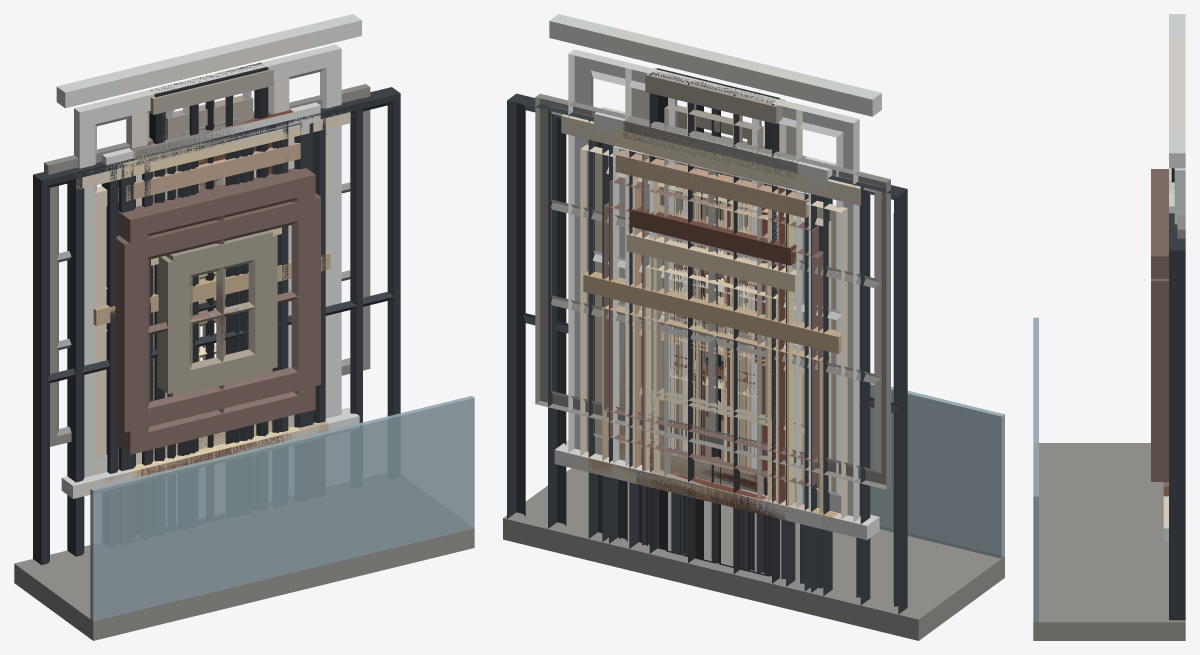
The model's file is facade-kits.glb.
3 views of the same model, side by side, from view 1: azimuth 30°, elevation 25°; view 2: azimuth 150°, elevation 25°; view 3: azimuth 270°, elevation 25° (orthographic). The views are drawn at different scales.
Visible parts, largest first — view 1: kit_11, kit_16, kit_13, kit_46, kit_10, kit_47, kit_08, kit_24, kit_03, kit_22, kit_15, kit_25 (+14 smaller); view 2: kit_11, kit_13, kit_10, kit_16, kit_03, kit_15, kit_08, kit_12, kit_09, kit_06, kit_43, kit_45 (+18 smaller); view 3: kit_11, kit_10, kit_47, kit_46, kit_13, kit_16, kit_03.
Boxes of the visible parts, x1,y1,x2,y2 form: kit_11: (14,84,474,640); kit_16: (90,396,474,620); kit_13: (56,14,361,498); kit_46: (118,168,315,454); kit_10: (33,87,400,565); kit_47: (115,193,320,432); kit_08: (67,100,362,556); kit_24: (157,230,277,393); kit_03: (113,27,309,479); kit_22: (166,230,272,397); kit_15: (76,111,350,495); kit_25: (101,115,325,473); kit_11: (503,93,1004,640); kit_13: (549,14,881,539); kit_10: (507,93,907,614); kit_16: (706,352,1004,558); kit_03: (606,28,822,511); kit_15: (561,114,860,536); kit_08: (548,107,870,605); kit_12: (583,271,841,529); kit_09: (594,107,836,528); kit_06: (615,150,808,505); kit_43: (626,231,796,515); kit_45: (630,206,796,519); kit_11: (1033,215,1185,640); kit_10: (1169,233,1185,620); kit_47: (1151,278,1168,461); kit_46: (1151,169,1168,481); kit_13: (1163,14,1185,540); kit_16: (1033,318,1038,621); kit_03: (1163,38,1185,503).
Bounding box in the file's own units: 3.06 × 3.73 × 1.1.
